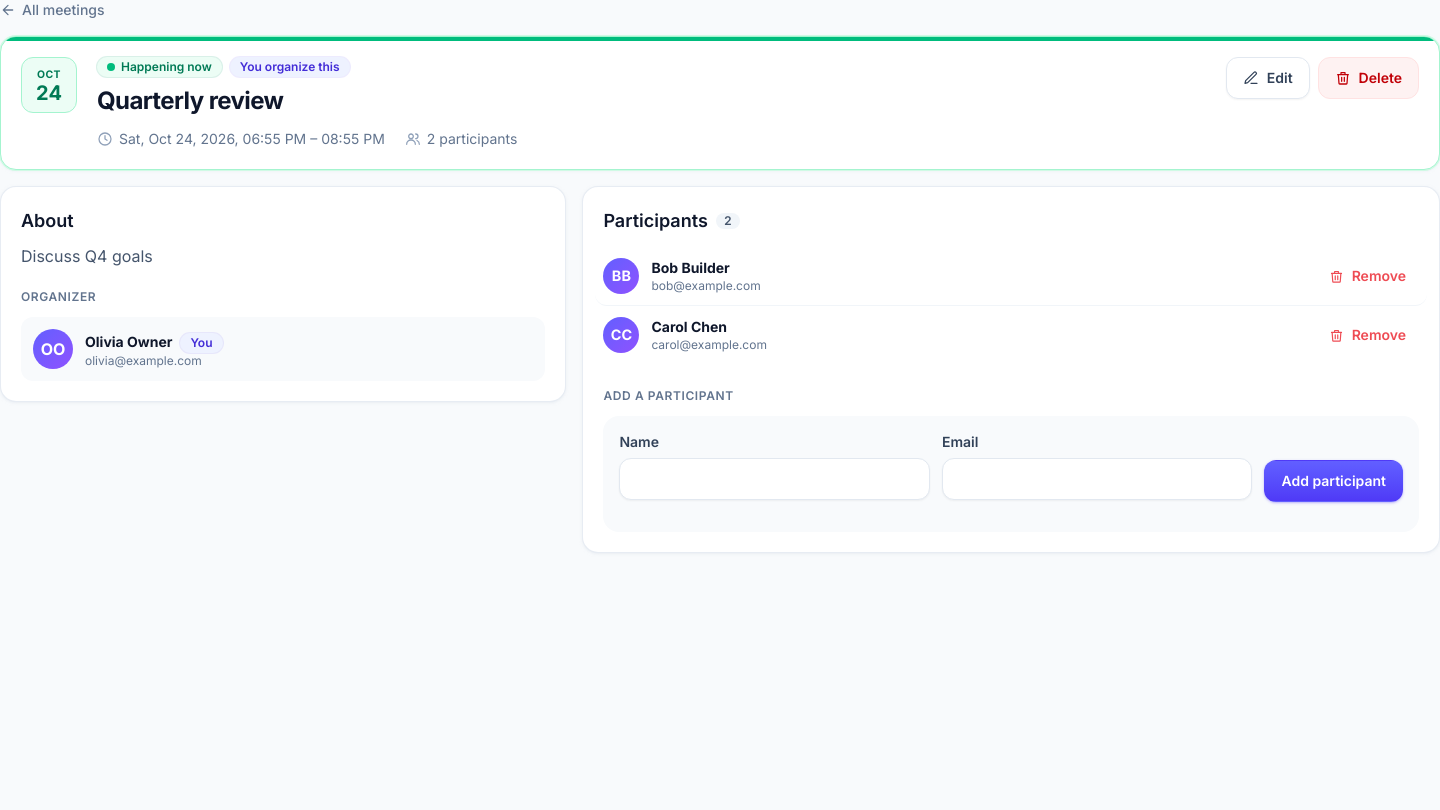
Test case: MeetingDetailPage › locks the page when the API reports the meeting has ended
The width and height of the screenshot is (1440, 810).
Expected: the heading "Quarterly review" is shown, [97,86,283,115]
Click the button with aria-label "Remove Bob Builder" at {"x": 1367, "y": 276}, box [1316,257,1419,295]
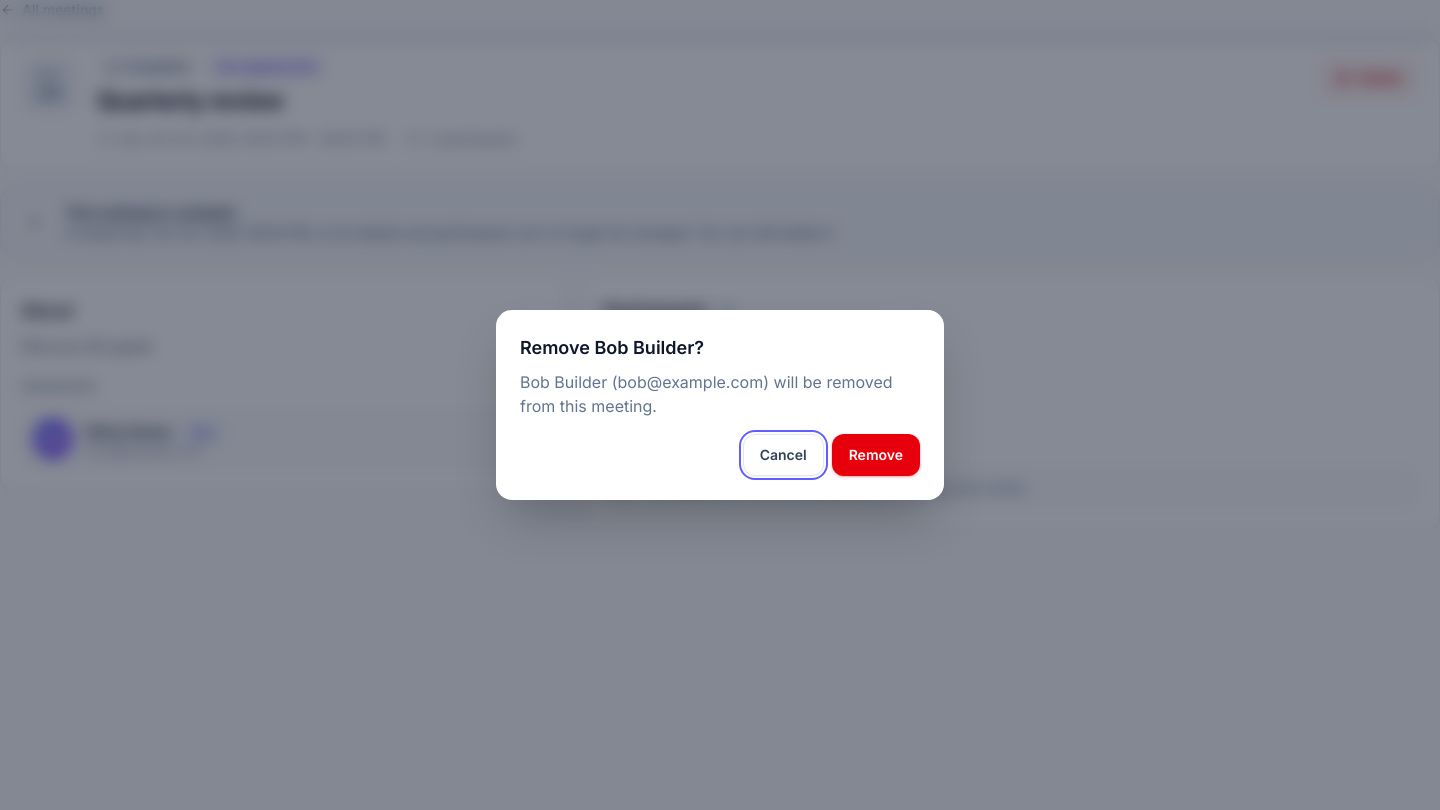
Click the button "Remove" at {"x": 876, "y": 455}, box [832,434,920,476]
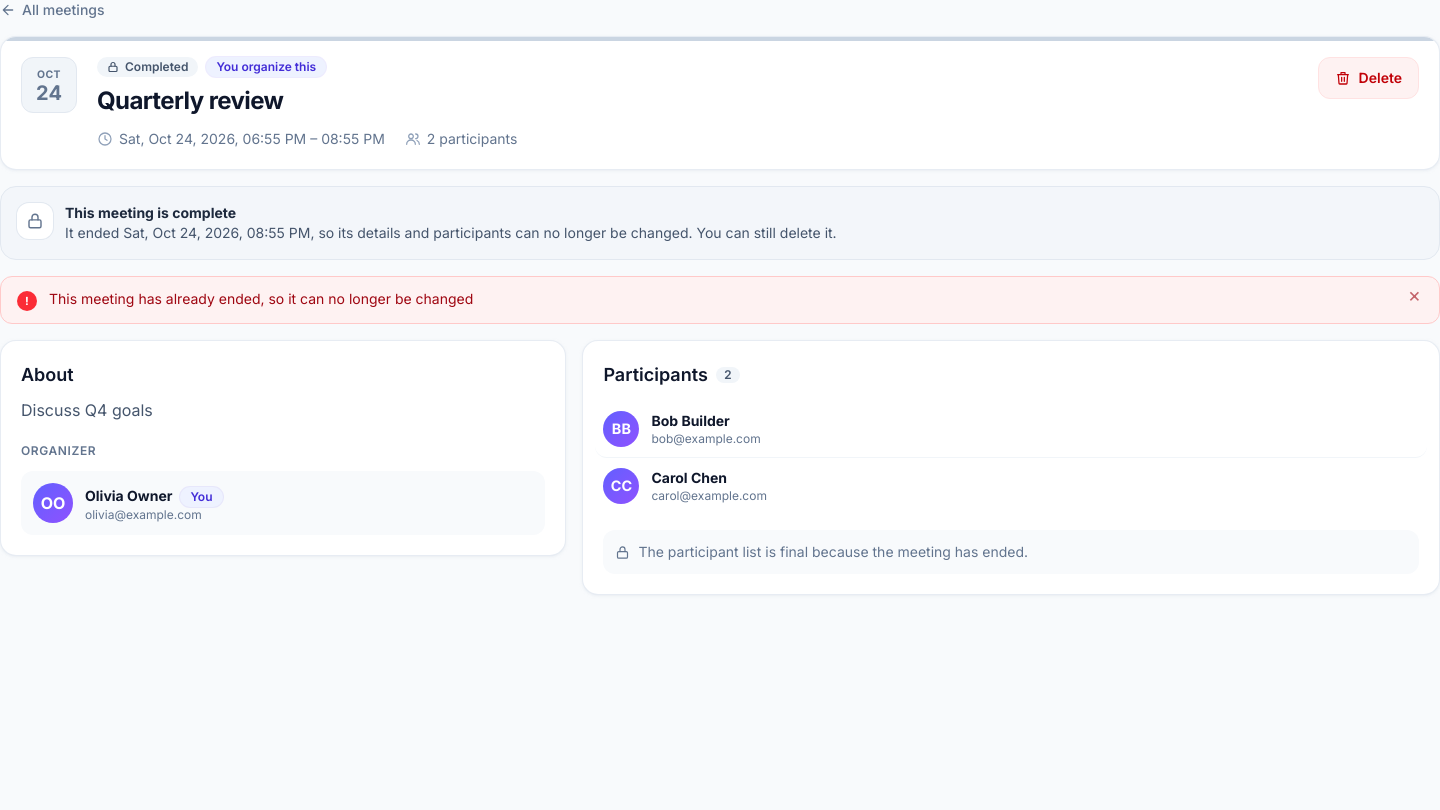
Expected: the text "This meeting is complete" is shown, [65,204,236,221]
Expected: the heading "Remove Bob Builder" is gone
